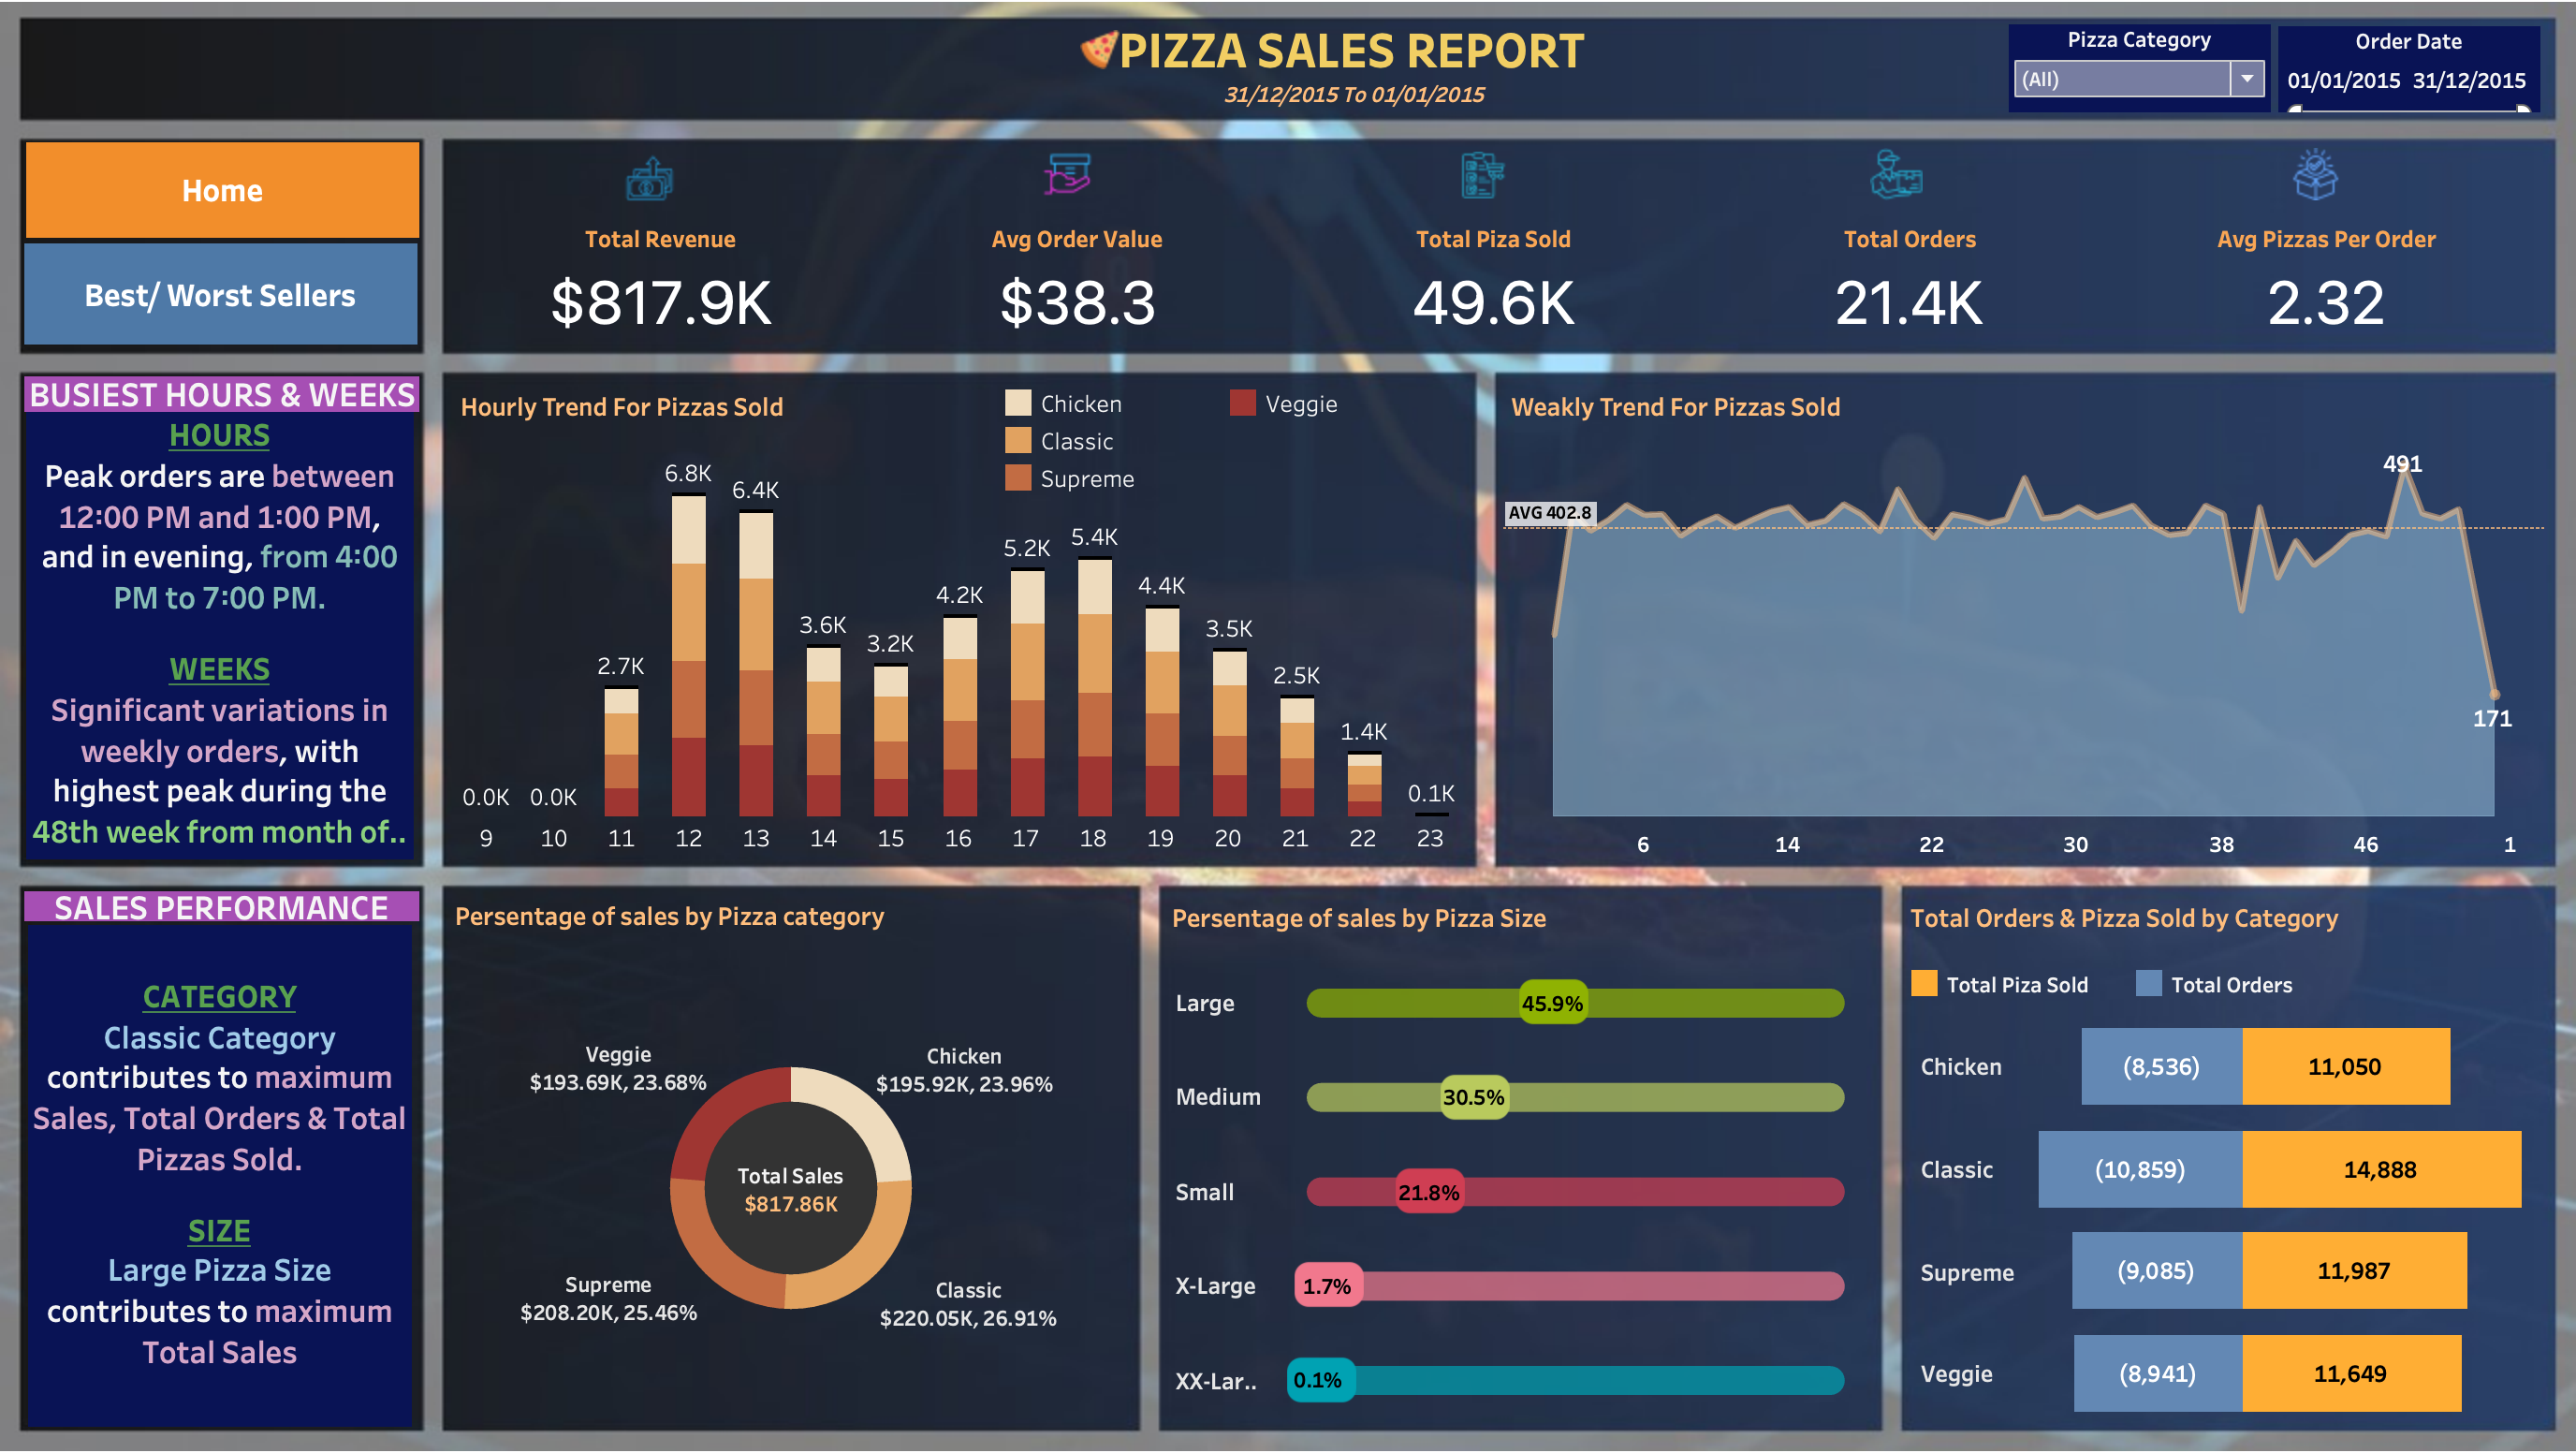

Layout of this report page (visuals, bound fields, positions):
{"tool":"tableau","page":{"name":"Home","canvas":[1400,800],"ordinal":1},"visuals":[{"type":"image","param":"/Users/muhammedmurshid/Documents/Projects/piza/FILES/Pizza Sales Images/Pizza Ta","box":[8,8,1384,784]},{"type":"text","box":[537.2,23.1,395.5,30.2]},{"type":"filter","title":"Hourly Trend For Pizzas Sold","param":"[federated.1atx9nq1vsrr8v107hsxd0hf8qi8].[none:pizza_category:nk]","box":[1085,25,140,47]},{"type":"filter","title":"Hourly Trend For Pizzas Sold","param":"[federated.1atx9nq1vsrr8v107hsxd0hf8qi8].[none:order_date:qk]","box":[1229,26,140,46]},{"type":"image","param":"/Users/muhammedmurshid/Documents/Projects/piza/FILES/Pizza Sales Images/pizza-sl","box":[588.9,28.4,24.5,21.3]},{"type":"worksheet","title":"Date Range","mark":"Automatic","box":[626.5,48,217.9,26.7]},{"type":"dashboard-object","box":[26,88,210,51]},{"type":"image","param":"/Users/muhammedmurshid/Documents/Projects/piza/FILES/Pizza Sales Images/shipping","box":[561.6,91.4,41,28.5]},{"type":"image","param":"/Users/muhammedmurshid/Documents/Projects/piza/FILES/Pizza Sales Images/delivery","box":[1004.7,91.4,41,28.5]},{"type":"image","param":"/Users/muhammedmurshid/Documents/Projects/piza/FILES/Pizza Sales Images/order (1","box":[1229.1,91.4,41,28.5]},{"type":"image","param":"/Users/muhammedmurshid/Documents/Projects/piza/FILES/Pizza Sales Images/profit-g","box":[339.5,92.6,41,28.5]},{"type":"image","param":"/Users/muhammedmurshid/Documents/Projects/piza/FILES/Pizza Sales Images/order-de","box":[788.3,92.6,34.2,24.9]},{"type":"worksheet","title":"KPI Banner","mark":"Automatic","box":[254,129.4,1111.8,67.7]},{"type":"dashboard-object","box":[25,142,210,54]},{"type":"text","box":[25,213,211,19]},{"type":"worksheet","title":"Hourly Trend For Pizzas Sold","mark":"Bar","rows":["Calculation_207517468831973379","Calculation_207517468831973379"],"cols":["order_time"],"box":[254,216,541,253]},{"type":"worksheet","title":"Weakly Trend For Pizzas Sold","mark":"Area","rows":["Calculation_207517468831629313","Calculation_207517468831629313"],"cols":["order_date"],"box":[815,216,556,256]},{"type":"legend","title":"Hourly Trend For Pizzas Sold","param":"[federated.1atx9nq1vsrr8v107hsxd0hf8qi8].[none:pizza_category:nk]","box":[546,217,252,71]},{"type":"text","box":[26,232,207,239]},{"type":"text","box":[1030,482,307,39]},{"type":"text","box":[25,488,211,16]},{"type":"worksheet","title":"Persentage of sales by Pizza category","mark":"Pie","rows":["Calculation_49821113472770050","Calculation_49821113472786436"],"box":[251,488,367,284]},{"type":"worksheet","title":"Persentage of sales by Pizza Size","mark":"Line","rows":["pizza_size"],"box":[634,489,377,285]},{"type":"text","box":[27,506,205,268]},{"type":"legend","title":"Total Orders & Pizza Sold by Pizza Category","param":"[federated.1atx9nq1vsrr8v107hsxd0hf8qi8].[:Measure Names]","box":[1029.9,527.1,278.2,24]},{"type":"worksheet","title":"Total Orders & Pizza Sold by Pizza Category","mark":"Automatic","rows":["pizza_category"],"box":[1032,539,340,234]}]}

Visuals, with their boxes in screenshot pixels (x1, y1, x2, y2), scaled from the page's 1400x800 canvas onto the 2576x1453 screenshot:
image: select_region(15, 15, 2561, 1438)
text: select_region(988, 42, 1716, 96)
"Hourly Trend For Pizzas Sold" filter: select_region(1997, 45, 2254, 131)
"Hourly Trend For Pizzas Sold" filter: select_region(2261, 47, 2519, 131)
image: select_region(1084, 51, 1129, 90)
"Date Range" worksheet: select_region(1153, 87, 1554, 136)
dashboard-object: select_region(48, 160, 434, 253)
image: select_region(1033, 166, 1109, 218)
image: select_region(1849, 166, 1925, 218)
image: select_region(2261, 166, 2337, 218)
image: select_region(624, 169, 700, 220)
image: select_region(1451, 169, 1514, 213)
"KPI Banner" worksheet: select_region(467, 235, 2513, 358)
dashboard-object: select_region(46, 257, 432, 356)
text: select_region(46, 387, 434, 421)
"Hourly Trend For Pizzas Sold" worksheet (Bar marks): select_region(467, 392, 1463, 852)
"Weakly Trend For Pizzas Sold" worksheet (Area marks): select_region(1500, 392, 2523, 858)
"Hourly Trend For Pizzas Sold" legend: select_region(1004, 394, 1469, 523)
text: select_region(48, 421, 429, 856)
text: select_region(1895, 875, 2460, 947)
text: select_region(46, 887, 434, 916)
"Persentage of sales by Pizza category" worksheet (Pie marks): select_region(461, 887, 1137, 1402)
"Persentage of sales by Pizza Size" worksheet (Line marks): select_region(1166, 888, 1860, 1406)
text: select_region(50, 919, 427, 1406)
"Total Orders & Pizza Sold by Pizza Category" legend: select_region(1895, 958, 2407, 1001)
"Total Orders & Pizza Sold by Pizza Category" worksheet: select_region(1899, 979, 2525, 1404)
